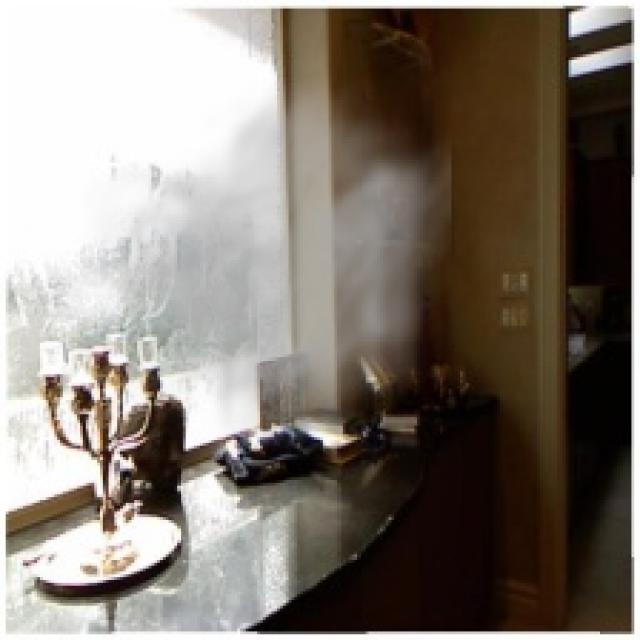Smoke: (80, 68, 452, 460)
